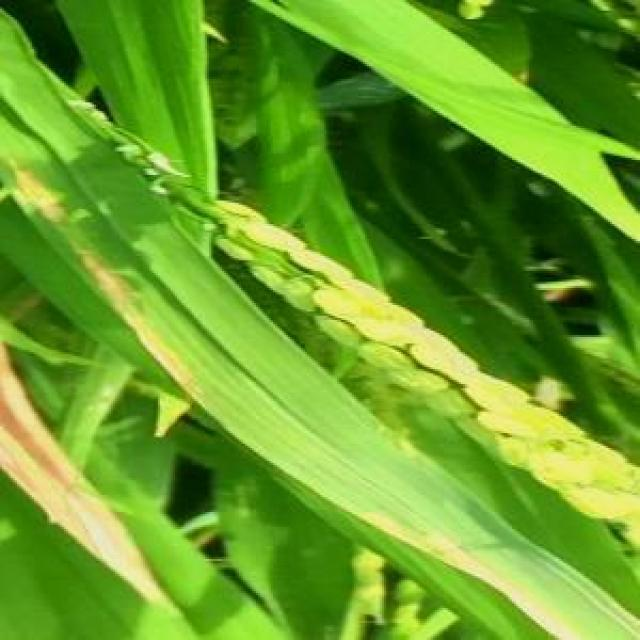Rice_Bacterial_Blight: (4, 149, 158, 288)
